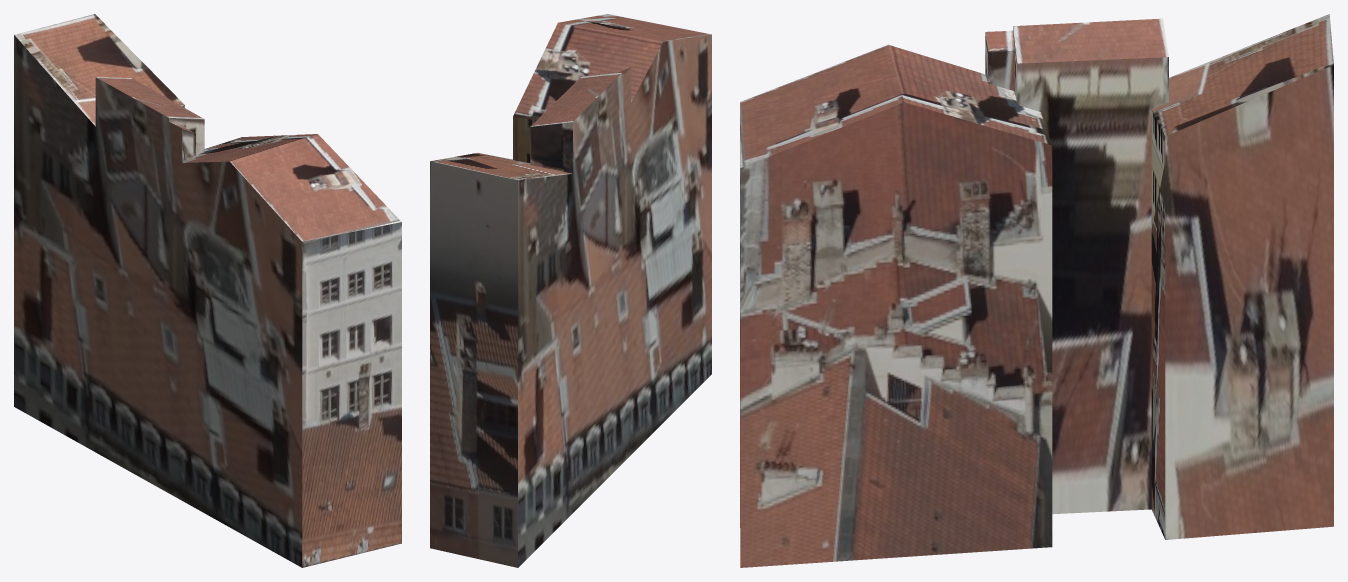
3 views of the same model, side by side, from view 1: azimuth 30°, elevation 25°; view 2: azimuth 150°, elevation 25°; view 3: azimuth 270°, elevation 25° (orthographic). The views are drawn at different scales.
Parts seen in each view (by area): view 1: Z_UP; view 2: Z_UP; view 3: Z_UP.
Part boxes in pixels (left/top/right/bottom): Z_UP: left=14, top=14, right=401, bottom=567; Z_UP: left=430, top=14, right=711, bottom=567; Z_UP: left=740, top=14, right=1333, bottom=567.
Bounding box in the file's own units: 10.18 × 24.22 × 27.92.
Materials: 2 (1 with a texture image).
